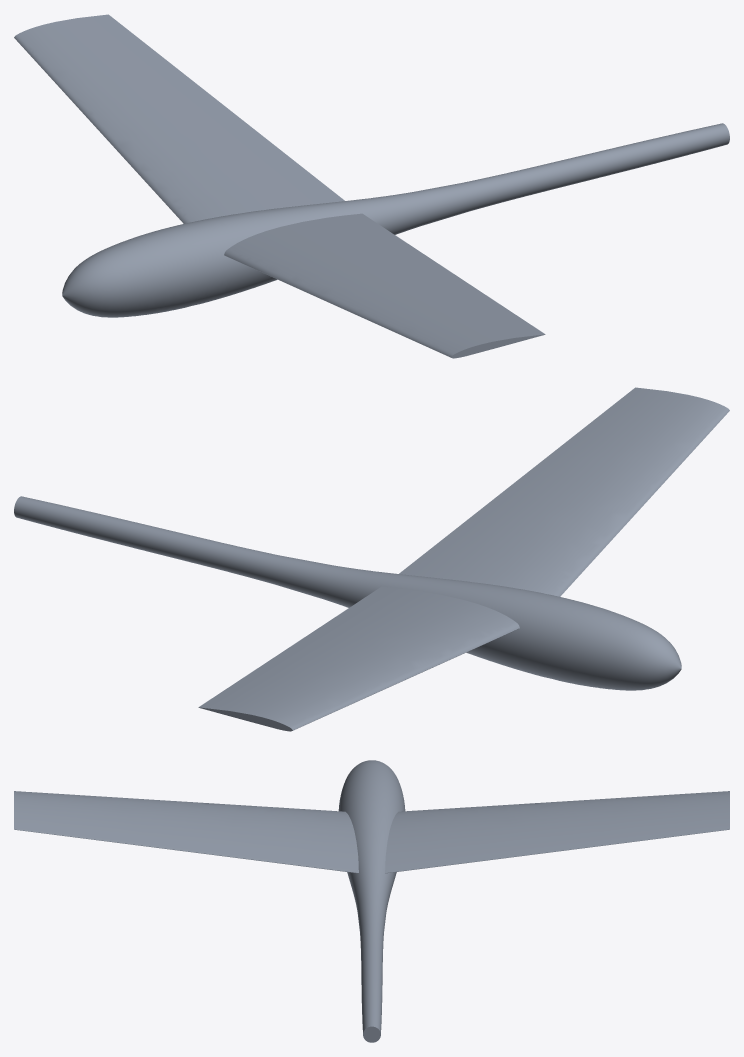
File: step-2.glb
3 views of the same model, one above another, from view 1: azimuth 30°, elevation 25°; view 2: azimuth 150°, elevation 25°; view 3: azimuth 270°, elevation 25° (orthographic). The views are drawn at different scales.
Parts seen in each view (by area): view 1: face_1b6819f219a328fa14c4, face_4f07ed33f4aedfdc2907, face_d33251d08d022978a54a, face_13973965e1f563fd0dbc; view 2: face_d33251d08d022978a54a, face_4f07ed33f4aedfdc2907, face_1b6819f219a328fa14c4, face_5f728a4ba4cc176f866b; view 3: face_d33251d08d022978a54a, face_1b6819f219a328fa14c4, face_4f07ed33f4aedfdc2907.
Part boxes in pixels (bbox=[...]): face_1b6819f219a328fa14c4: bbox=[14, 14, 344, 223]; face_4f07ed33f4aedfdc2907: bbox=[62, 123, 729, 317]; face_d33251d08d022978a54a: bbox=[224, 213, 544, 357]; face_13973965e1f563fd0dbc: bbox=[451, 334, 545, 358]; face_d33251d08d022978a54a: bbox=[399, 387, 729, 596]; face_4f07ed33f4aedfdc2907: bbox=[14, 496, 681, 690]; face_1b6819f219a328fa14c4: bbox=[199, 586, 519, 730]; face_5f728a4ba4cc176f866b: bbox=[198, 707, 292, 731]; face_d33251d08d022978a54a: bbox=[14, 791, 358, 872]; face_1b6819f219a328fa14c4: bbox=[385, 791, 729, 872]; face_4f07ed33f4aedfdc2907: bbox=[338, 760, 405, 1032].
Bounding box in the file's own units: 0.14 × 0.0201 × 0.16.
